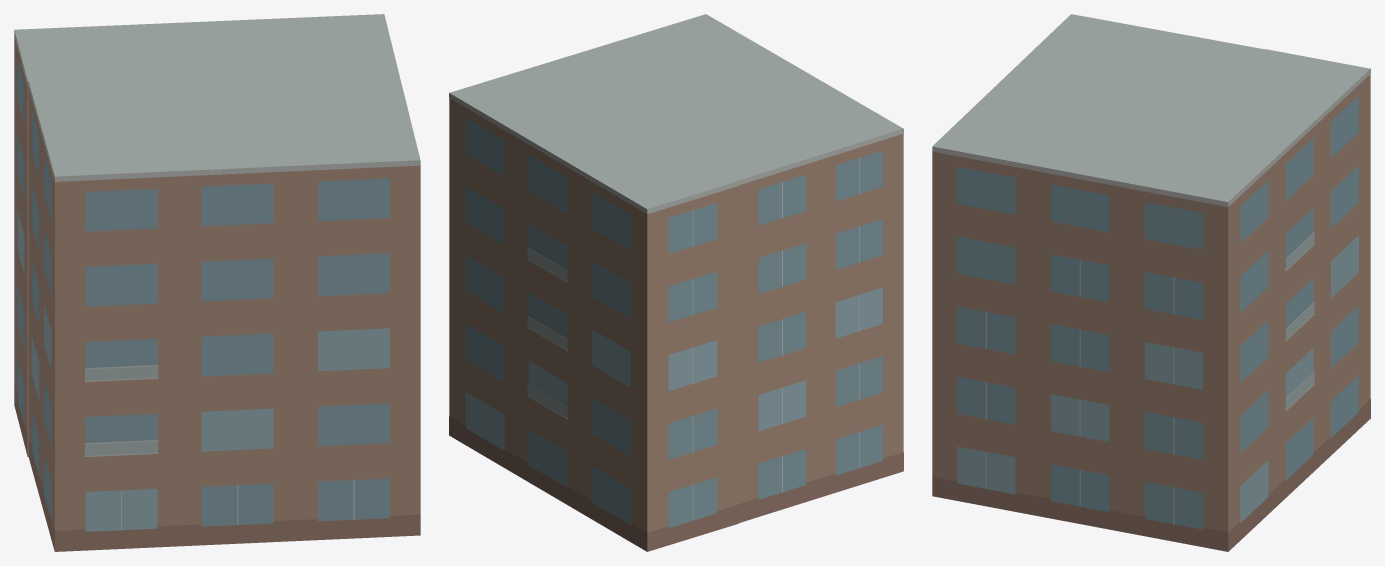
The model's file is survey-upis-33000638.glb.
3 renders of one model, left to right at view 1: azimuth 30°, elevation 25°; view 2: azimuth 150°, elevation 25°; view 3: azimuth 270°, elevation 25°, orthographic. The views are drawn at different scales.
Visible parts, largest first — view 1: survey-upis-33000638.tmp; view 2: survey-upis-33000638.tmp; view 3: survey-upis-33000638.tmp.
Boxes of the visible parts, bbox=[...] form: survey-upis-33000638.tmp: bbox=[14, 14, 420, 551]; survey-upis-33000638.tmp: bbox=[449, 14, 903, 551]; survey-upis-33000638.tmp: bbox=[932, 14, 1370, 551].
Size of the model in its own units: 19.62 by 17 by 19.33.
